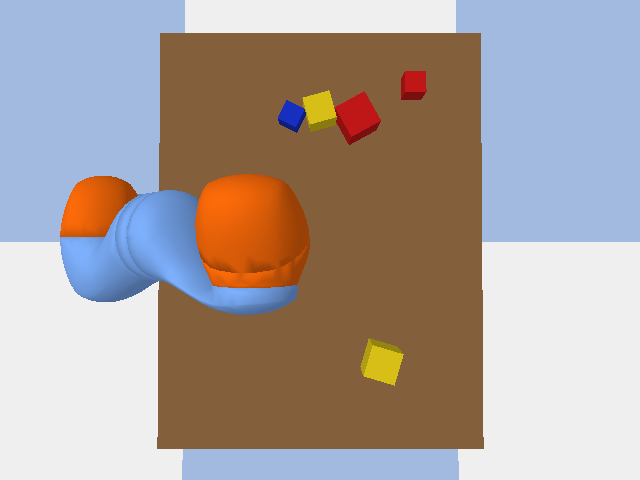blue_obj: (278, 100, 305, 132)
red_obj: (335, 91, 380, 144), (401, 71, 426, 99)
yellow_obj: (360, 338, 403, 385), (302, 90, 336, 131)
